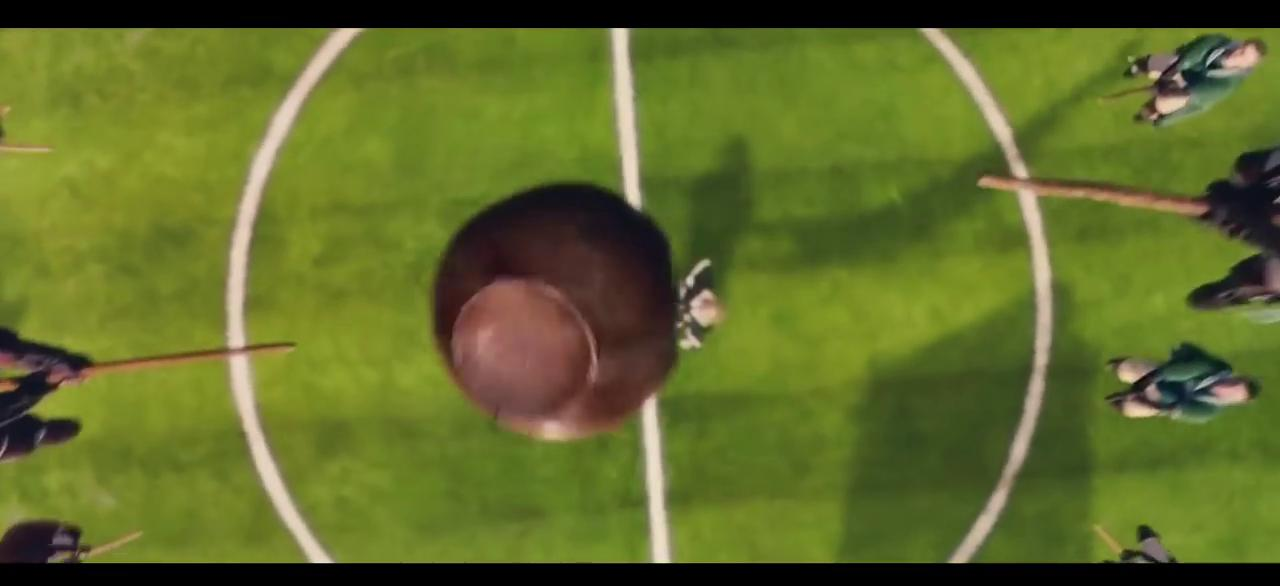quaffle: (428, 178, 683, 439)
